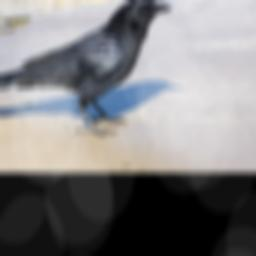Crow: (0, 0, 173, 137)
